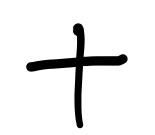plus: (25, 24, 127, 131)
